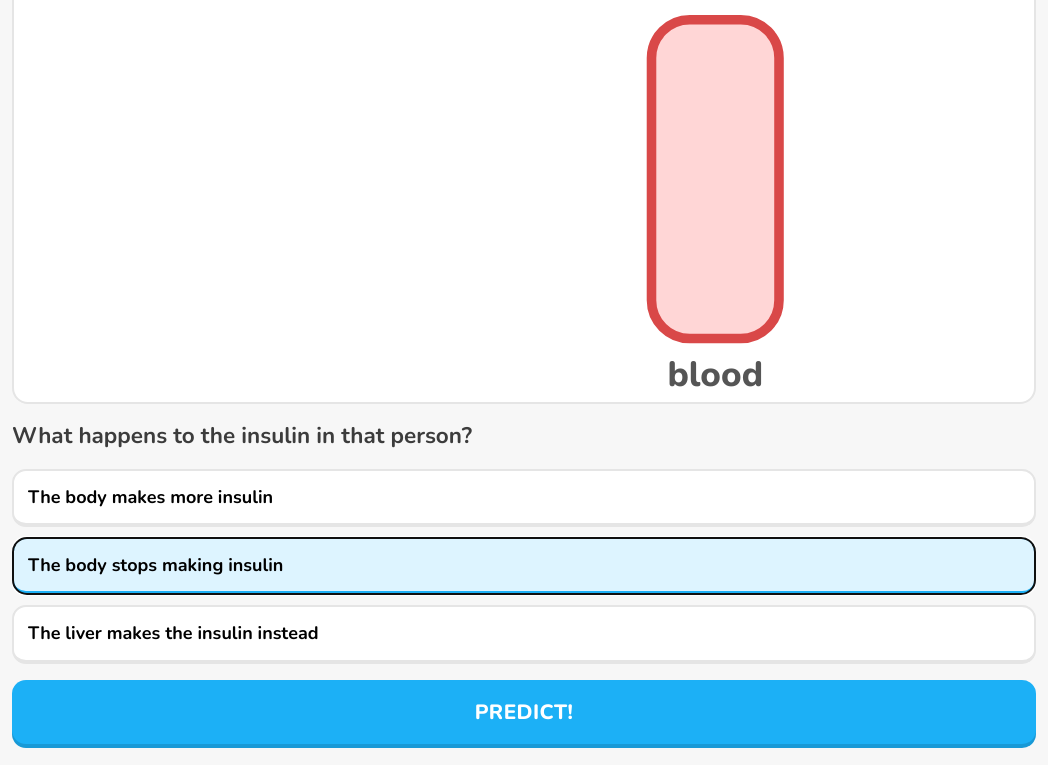
Test: Predict it! › predict, watch, explain, through a whole game
Earlier steps of the test are not shown.
Later steps or results of the test are not shown.
(page scrolled)
Click the button "Predict!".
click(524, 712)  # box [12,680,1036,744]
Wait 3000 ms
(page scrolled)
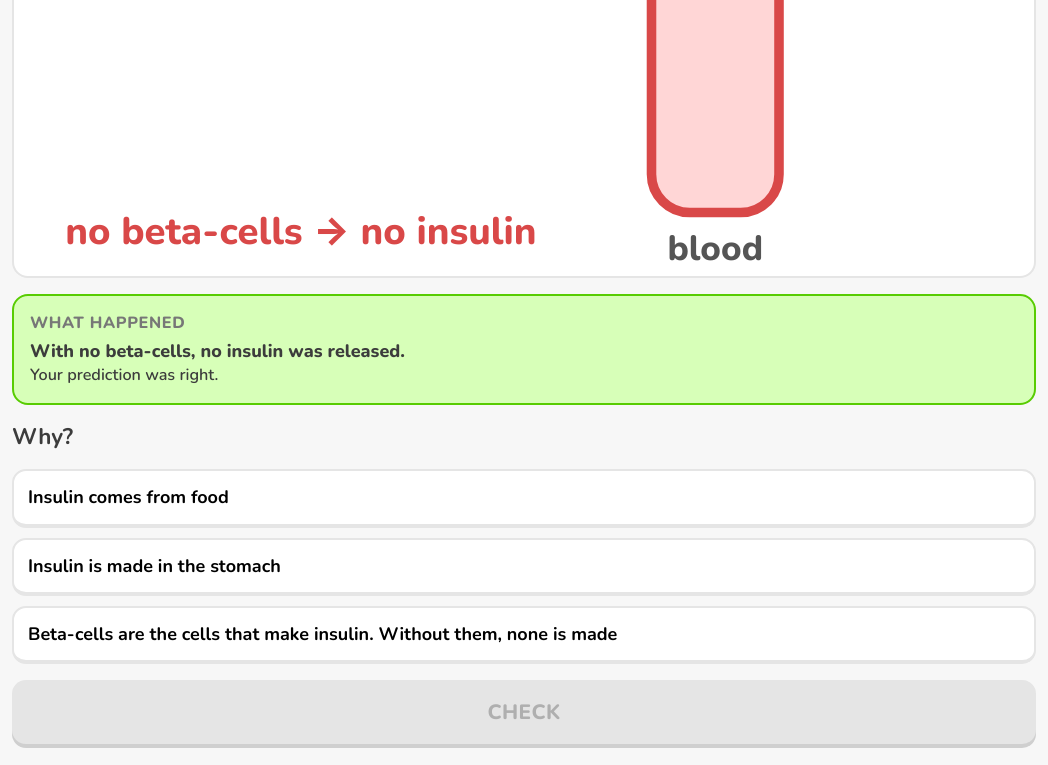
Expected: the text "With no beta-cells, no insulin was released." is shown, [30,339,405,363]
Click the button "Beta-cells are the cells that make insulin. Without them, none is made".
click(524, 635)  # box [12,606,1036,664]
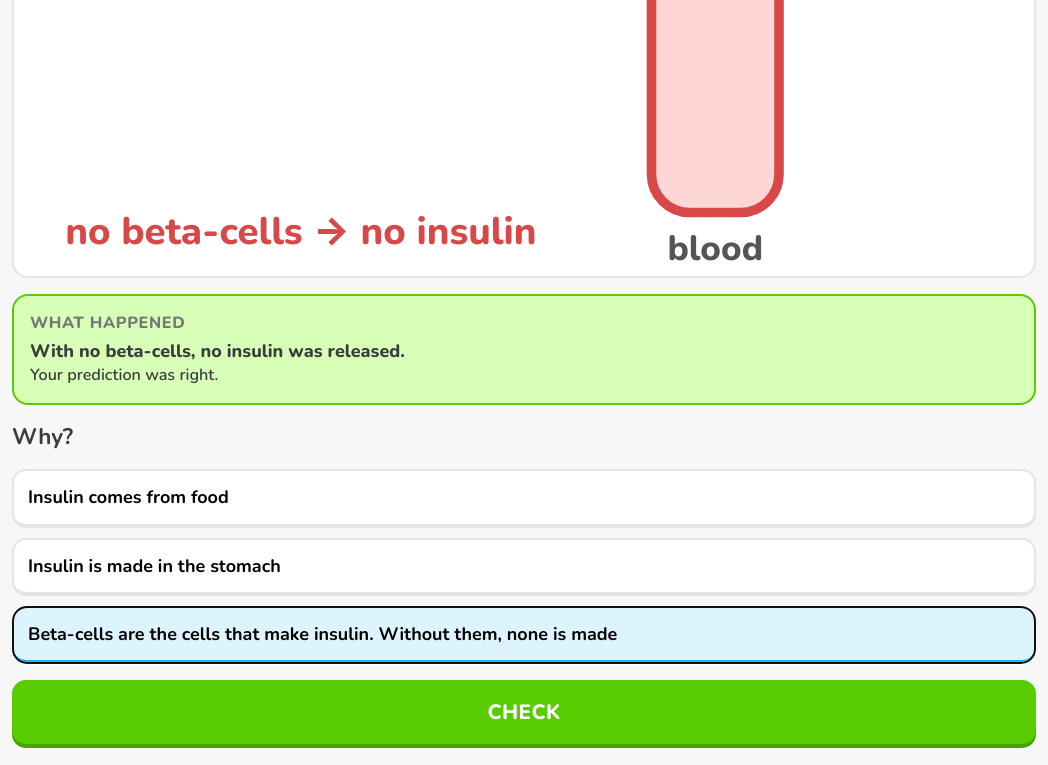
Click the button "Check".
click(524, 712)  # box [12,680,1036,744]
(page scrolled)
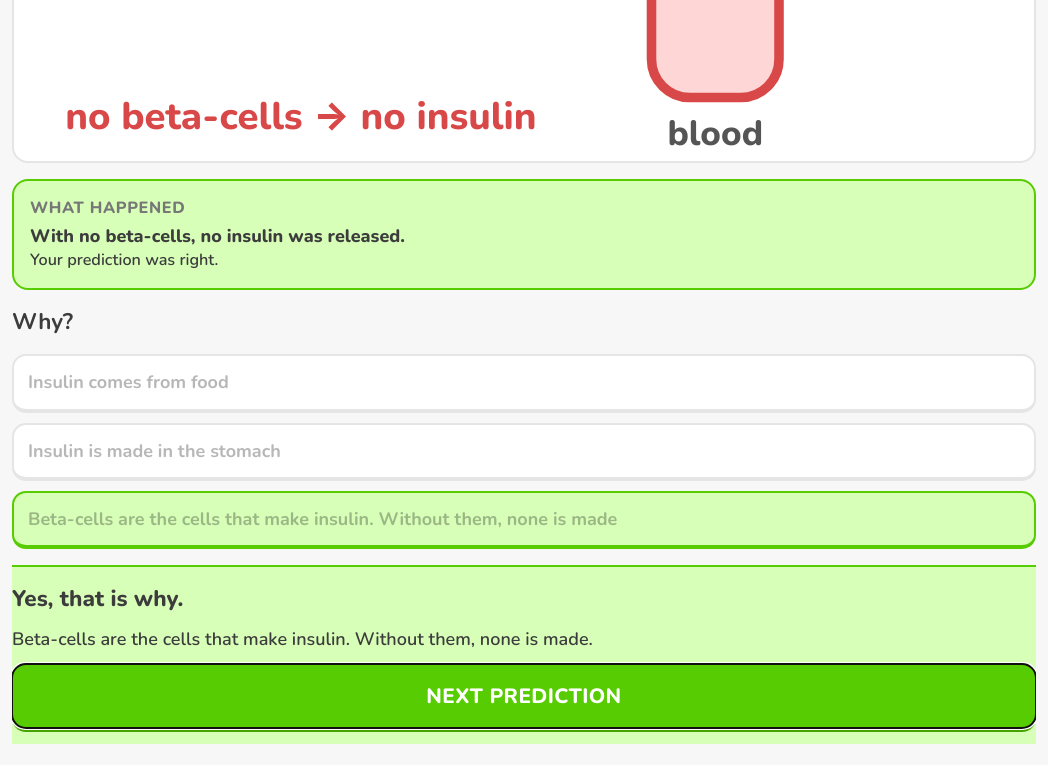
Expected: the heading "Yes, that is why." is shown, [12,583,183,614]
Click the button "Next prediction".
click(524, 696)  # box [12,664,1036,728]
(page scrolled)
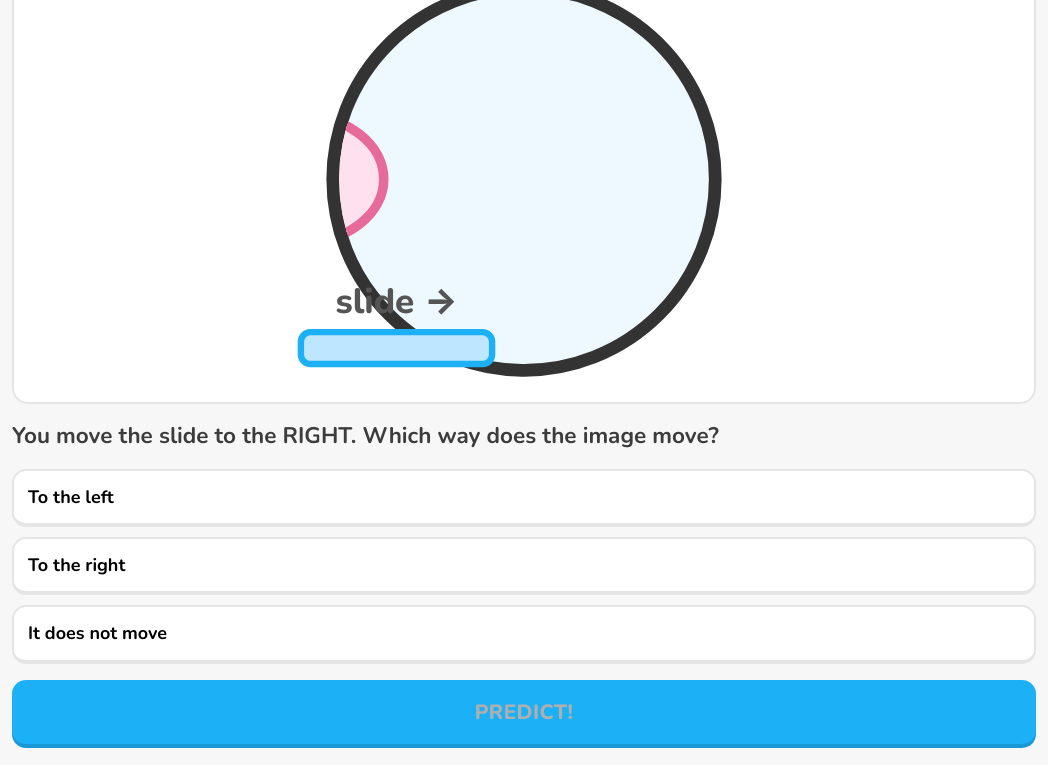
Click the button "To the left".
click(71, 497)  # box [12,469,1036,527]
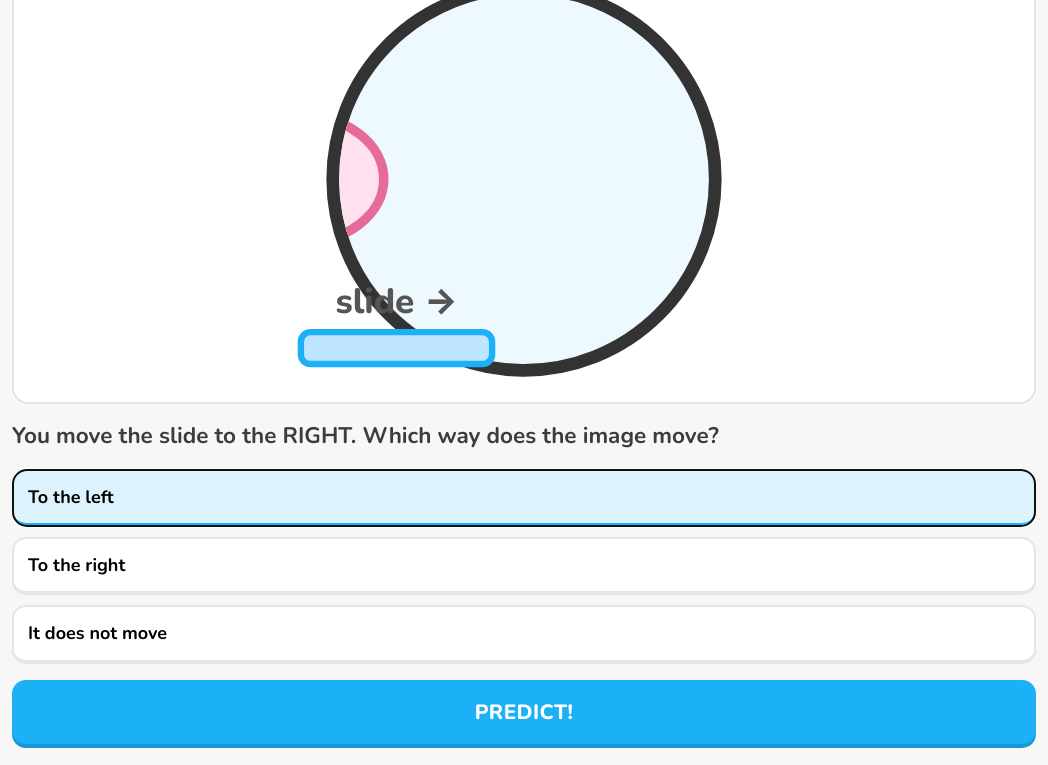
Click the button "Predict!".
click(524, 712)  # box [12,680,1036,744]
Wait 3000 ms
(page scrolled)
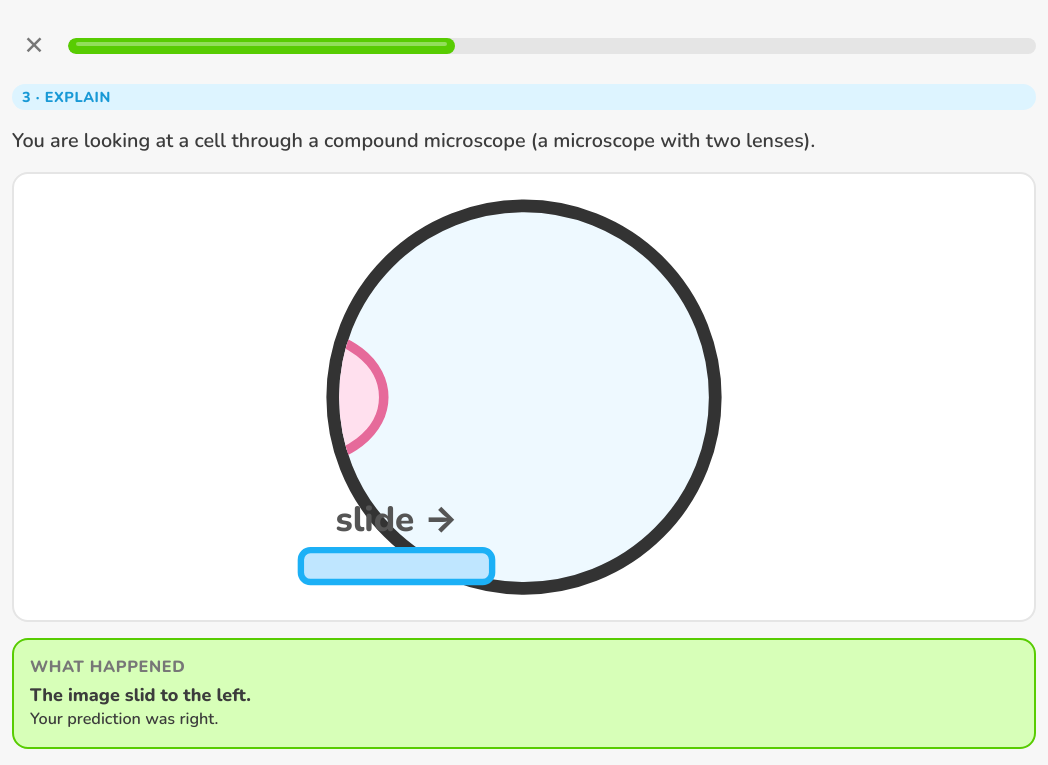
Expected: the text "The image slid to the left." is shown, [30,683,251,707]
